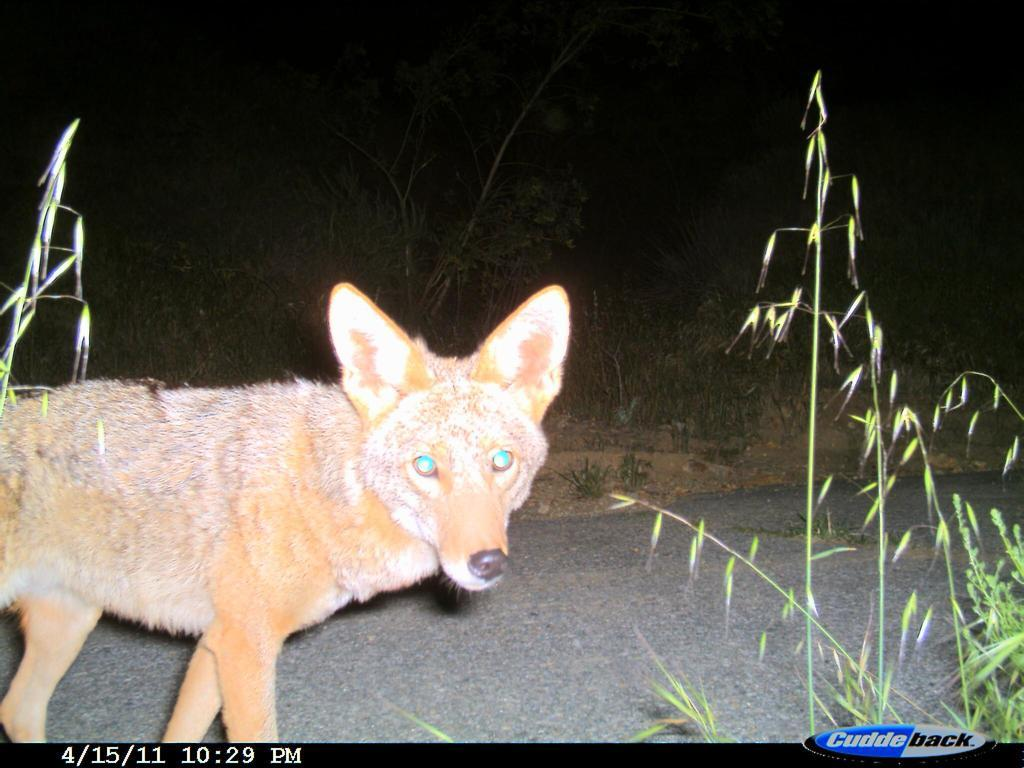coyote: (1, 278, 579, 743)
